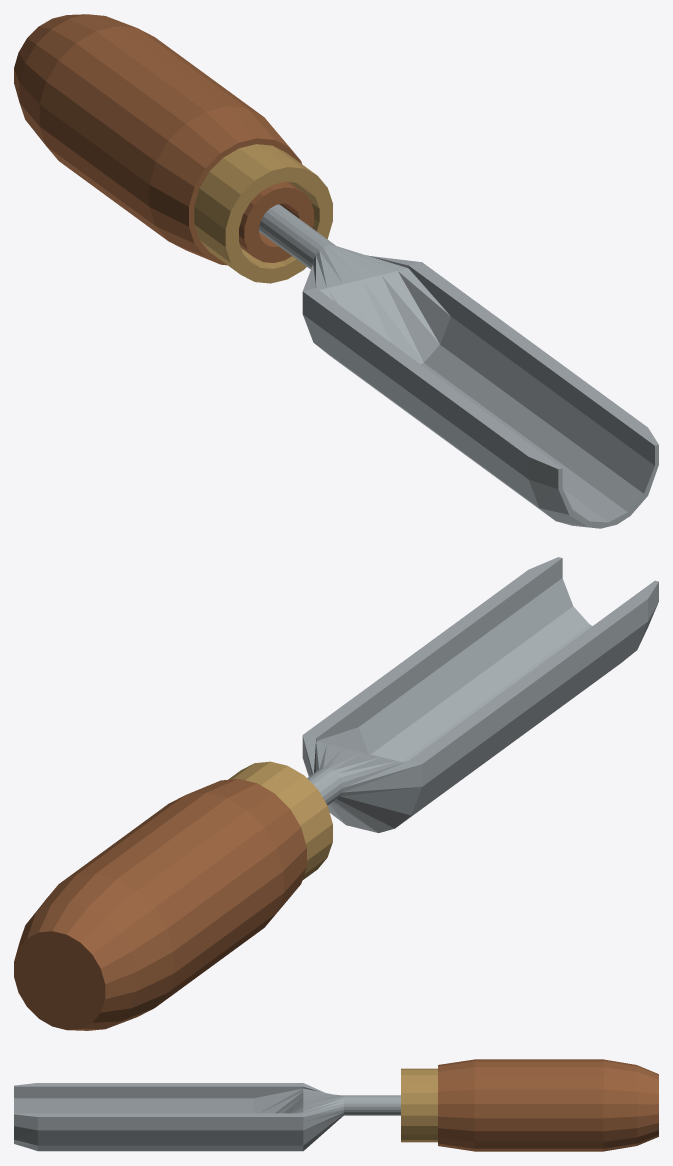
3 renders of one model, top to bottom at view 1: azimuth 30°, elevation 25°; view 2: azimuth 150°, elevation 25°; view 3: azimuth 270°, elevation 25°, orthographic. The views are drawn at different scales.
Parts seen in each view (by area): view 1: ContinuousUFluteRootNeckTang, ThickBlindCavityGrip, ThickThroughBoredFerrule; view 2: ThickBlindCavityGrip, ContinuousUFluteRootNeckTang, ThickThroughBoredFerrule; view 3: ContinuousUFluteRootNeckTang, ThickBlindCavityGrip, ThickThroughBoredFerrule.
Part boxes in pixels (left/top/right/bottom): ContinuousUFluteRootNeckTang: left=259, top=204, right=658, bottom=528; ThickBlindCavityGrip: left=14, top=14, right=313, bottom=265; ThickThroughBoredFerrule: left=194, top=144, right=332, bottom=283; ThickBlindCavityGrip: left=14, top=778, right=306, bottom=1030; ContinuousUFluteRootNeckTang: left=302, top=557, right=658, bottom=832; ThickThroughBoredFerrule: left=228, top=761, right=332, bottom=880; ContinuousUFluteRootNeckTang: left=14, top=1083, right=400, bottom=1151; ThickBlindCavityGrip: left=438, top=1059, right=658, bottom=1151; ThickThroughBoredFerrule: left=401, top=1068, right=437, bottom=1142.
Size of the model in its own units: 0.0494 by 0.0494 by 0.35.
